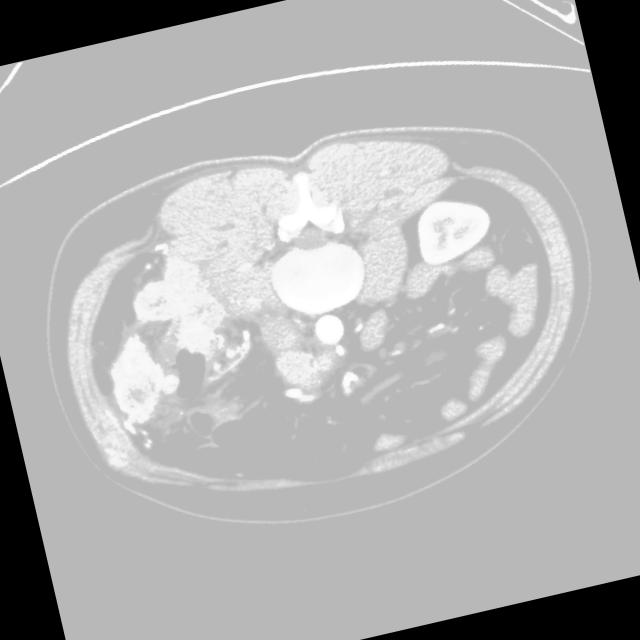TUMOR: (86, 140, 567, 510)
